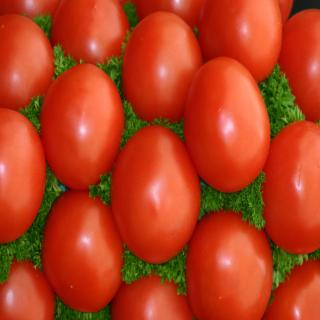tomato: (109, 128, 200, 265), (183, 55, 269, 193), (39, 63, 123, 190), (43, 190, 125, 312), (185, 208, 272, 320), (121, 12, 202, 127), (262, 120, 320, 254), (198, 0, 290, 83), (0, 110, 45, 244), (49, 0, 128, 69), (0, 15, 53, 116), (278, 8, 320, 122), (110, 272, 192, 320), (0, 254, 55, 319), (262, 260, 320, 320), (130, 0, 200, 30), (0, 0, 59, 23)
